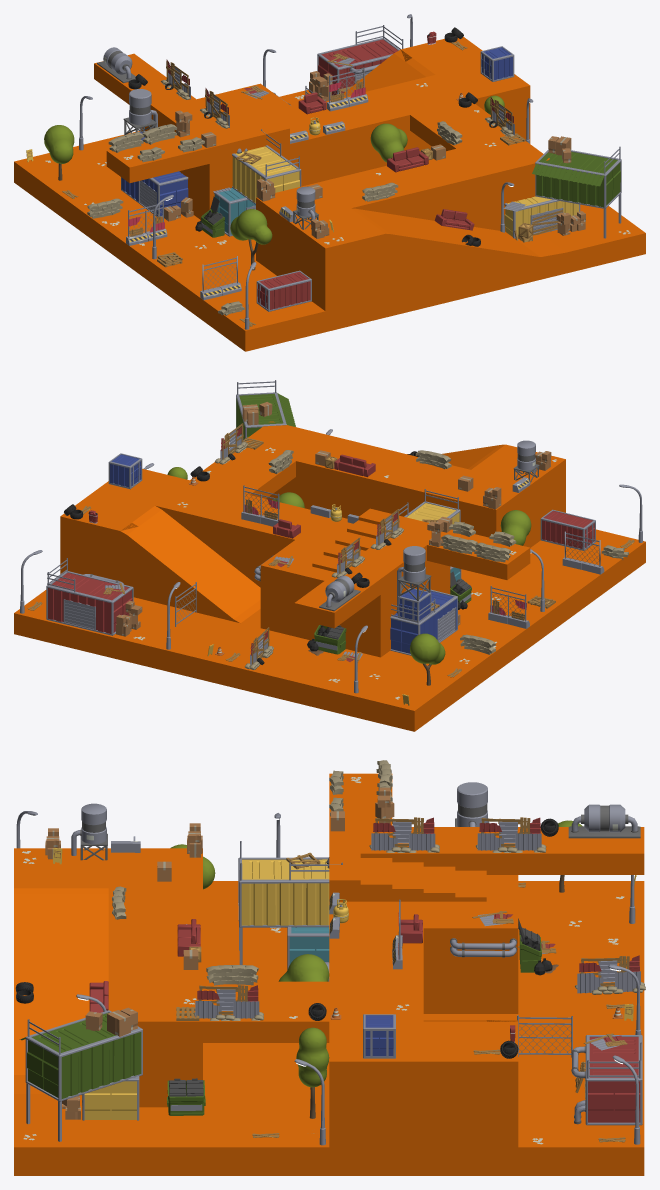
The model's file is map.glb.
3 views of the same model, one above another, from view 1: azimuth 30°, elevation 25°; view 2: azimuth 150°, elevation 25°; view 3: azimuth 270°, elevation 25° (orthographic). The views are drawn at different scales.
Parts seen in each view (by area): view 1: Map, Structure_2, Structure_4, Structure_3, Structure_1, Container_Long, Tree_3, Barrier_Fixed.001, Container_Small, Barrier_Fixed, Tree_4, Tree_1 (+10 smaller); view 2: Map, Structure_1, Structure_3, Structure_2, Container_Long, Structure_4, Container_Small, Barrier_Fixed, Barrier_Fixed.001, Tree_4, TrashContainer_Open, Barrier_Large (+11 smaller); view 3: Map, Structure_2, Structure_4, Structure_1, Barrier_Trash.003, Barrier_Trash, Barrier_Trash.002, Barrier_Trash.001, WaterTank_Floor, Tree_2, Container_Small, WaterTank_Platform (+8 smaller).
Part boxes in pixels (box(x1,y1,x2,y2)): Map: box(14, 37, 645, 351); Structure_2: box(503, 136, 621, 242); Structure_4: box(195, 129, 301, 237); Structure_3: box(121, 89, 193, 221); Structure_1: box(309, 25, 403, 101); Container_Long: box(256, 270, 311, 311); Tree_3: box(230, 209, 272, 270); Barrier_Fixed.001: box(327, 67, 368, 111); Container_Small: box(480, 46, 514, 81); Barrier_Fixed: box(126, 201, 167, 245); Tree_4: box(44, 125, 74, 180); Tree_1: box(370, 123, 407, 162); Map: box(14, 421, 645, 731); Structure_1: box(46, 558, 142, 636); Structure_3: box(390, 546, 460, 655); Structure_2: box(236, 380, 295, 439); Container_Long: box(540, 509, 595, 550); Structure_4: box(394, 489, 471, 609); Container_Small: box(108, 453, 142, 489); Barrier_Fixed: box(488, 585, 529, 628); Barrier_Fixed.001: box(241, 485, 279, 526); Tree_4: box(410, 633, 445, 685); TrashContainer_Open: box(307, 625, 346, 655); Barrier_Large: box(562, 531, 604, 574); Map: box(14, 773, 644, 1175); Structure_2: box(19, 1007, 142, 1141); Structure_4: box(238, 841, 342, 981); Structure_1: box(571, 1033, 642, 1125); Barrier_Trash.003: box(193, 985, 263, 1020); Barrier_Trash: box(574, 955, 645, 994); Barrier_Trash.002: box(475, 817, 546, 852); Barrier_Trash.001: box(369, 817, 439, 852); WaterTank_Floor: box(568, 804, 640, 838); Tree_2: box(296, 1027, 329, 1118); Container_Small: box(363, 1014, 395, 1058); WaterTank_Platform: box(71, 803, 107, 860).
Bounding box in the file's own units: 40.45 × 11.79 × 40.1.
217 materials, 4 textured.
